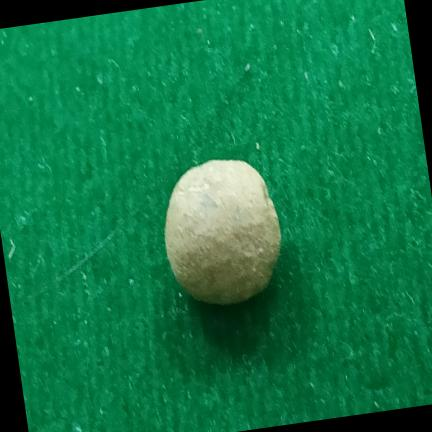good: (165, 160, 280, 304)
